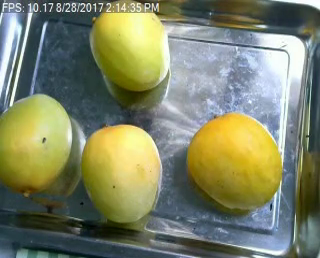Mango: (184, 113, 283, 210), (81, 122, 162, 222), (0, 94, 73, 198), (87, 2, 171, 88)
